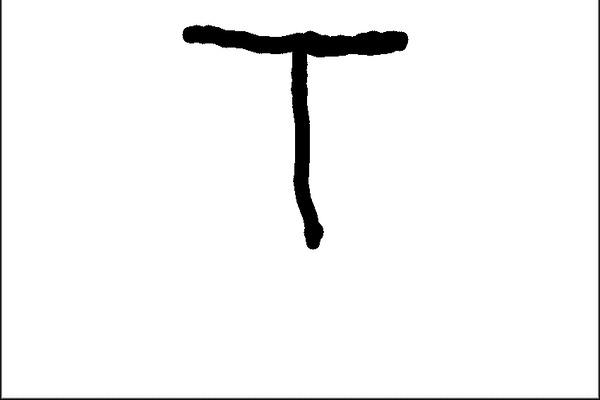T: (173, 14, 413, 254)
